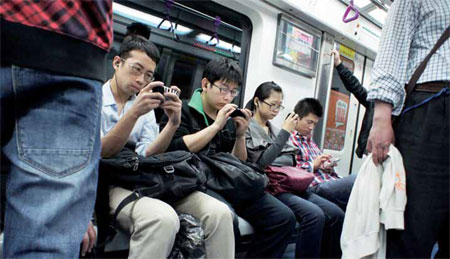without_mask: (122, 53, 151, 95), (211, 79, 236, 110), (300, 112, 318, 138), (265, 94, 282, 121)
